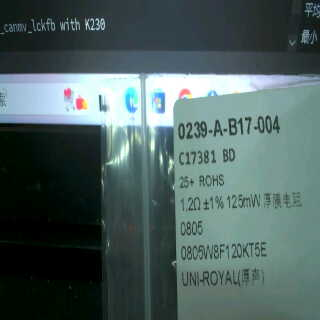1.2R: (177, 195, 205, 241)
